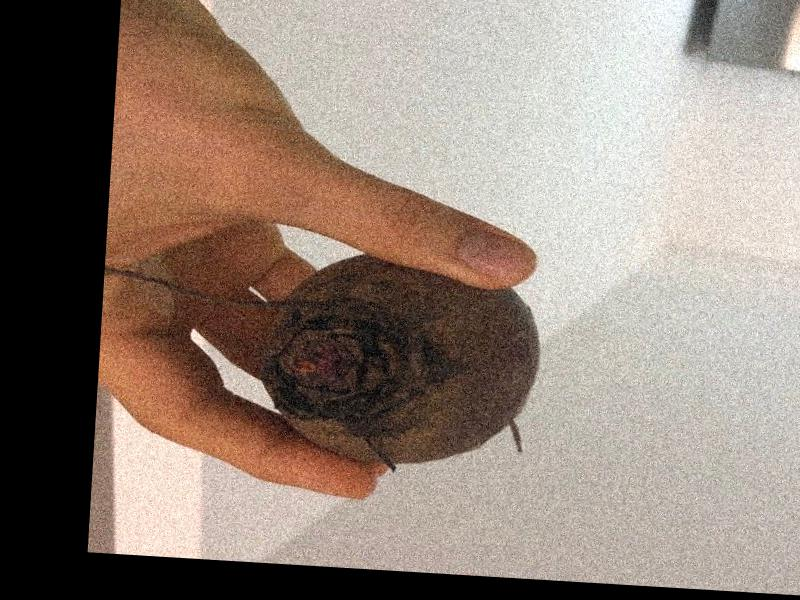Beet: (96, 235, 547, 481)
